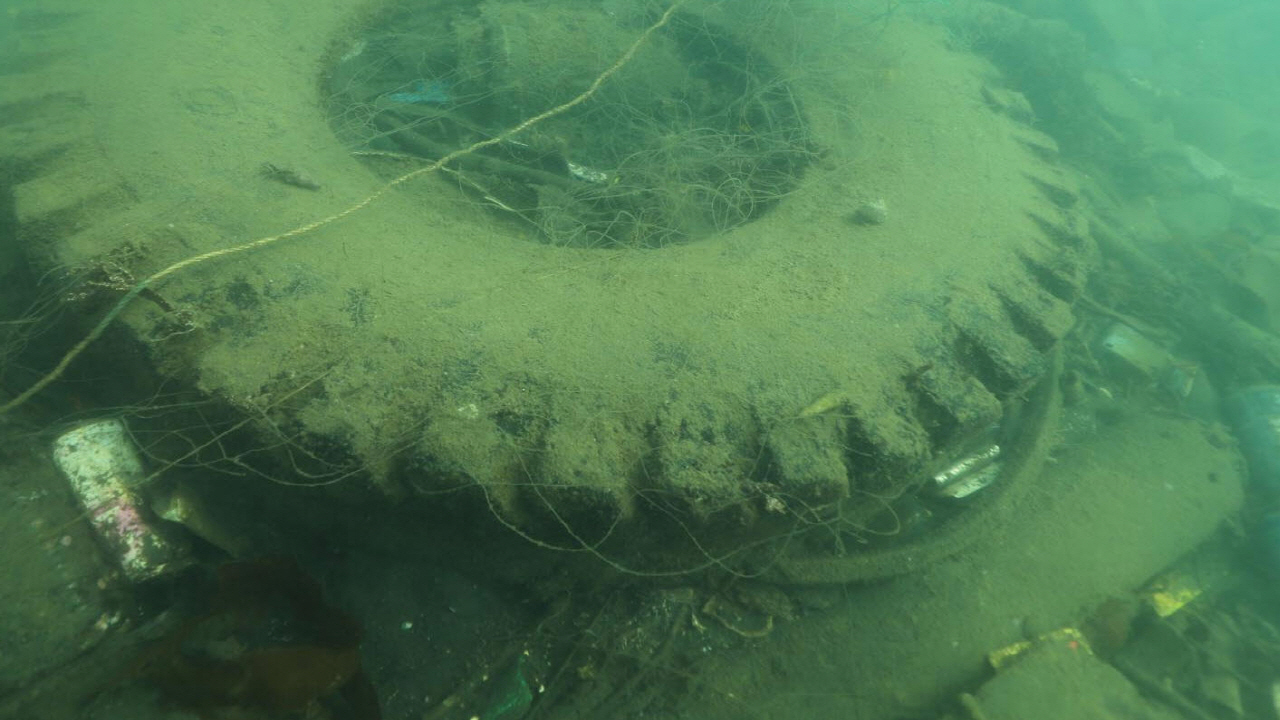eel fish trap: (0, 0, 1088, 523), (681, 414, 1245, 720)
